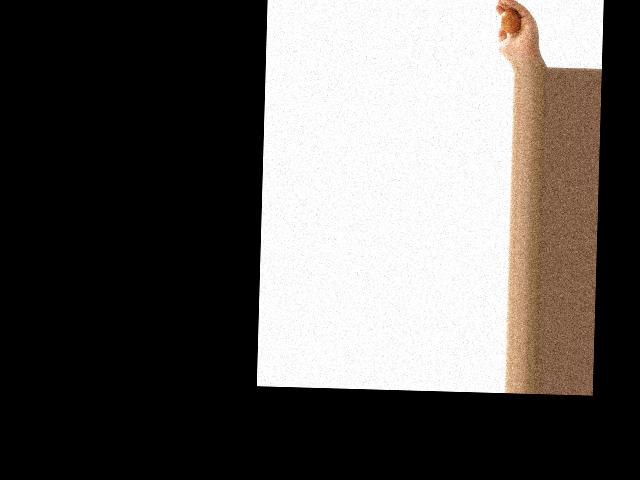egg: (500, 7, 520, 33)
